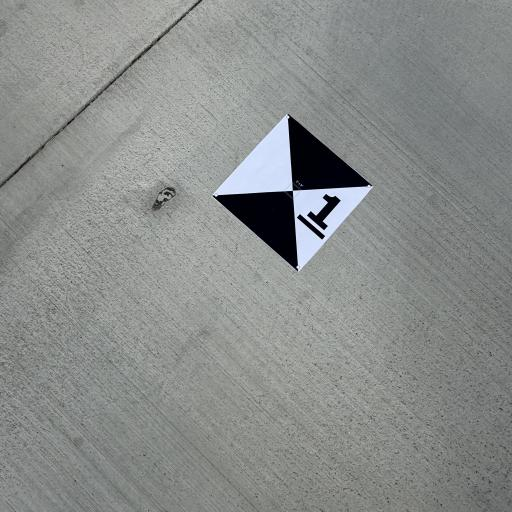target1: (208, 109, 377, 281)
